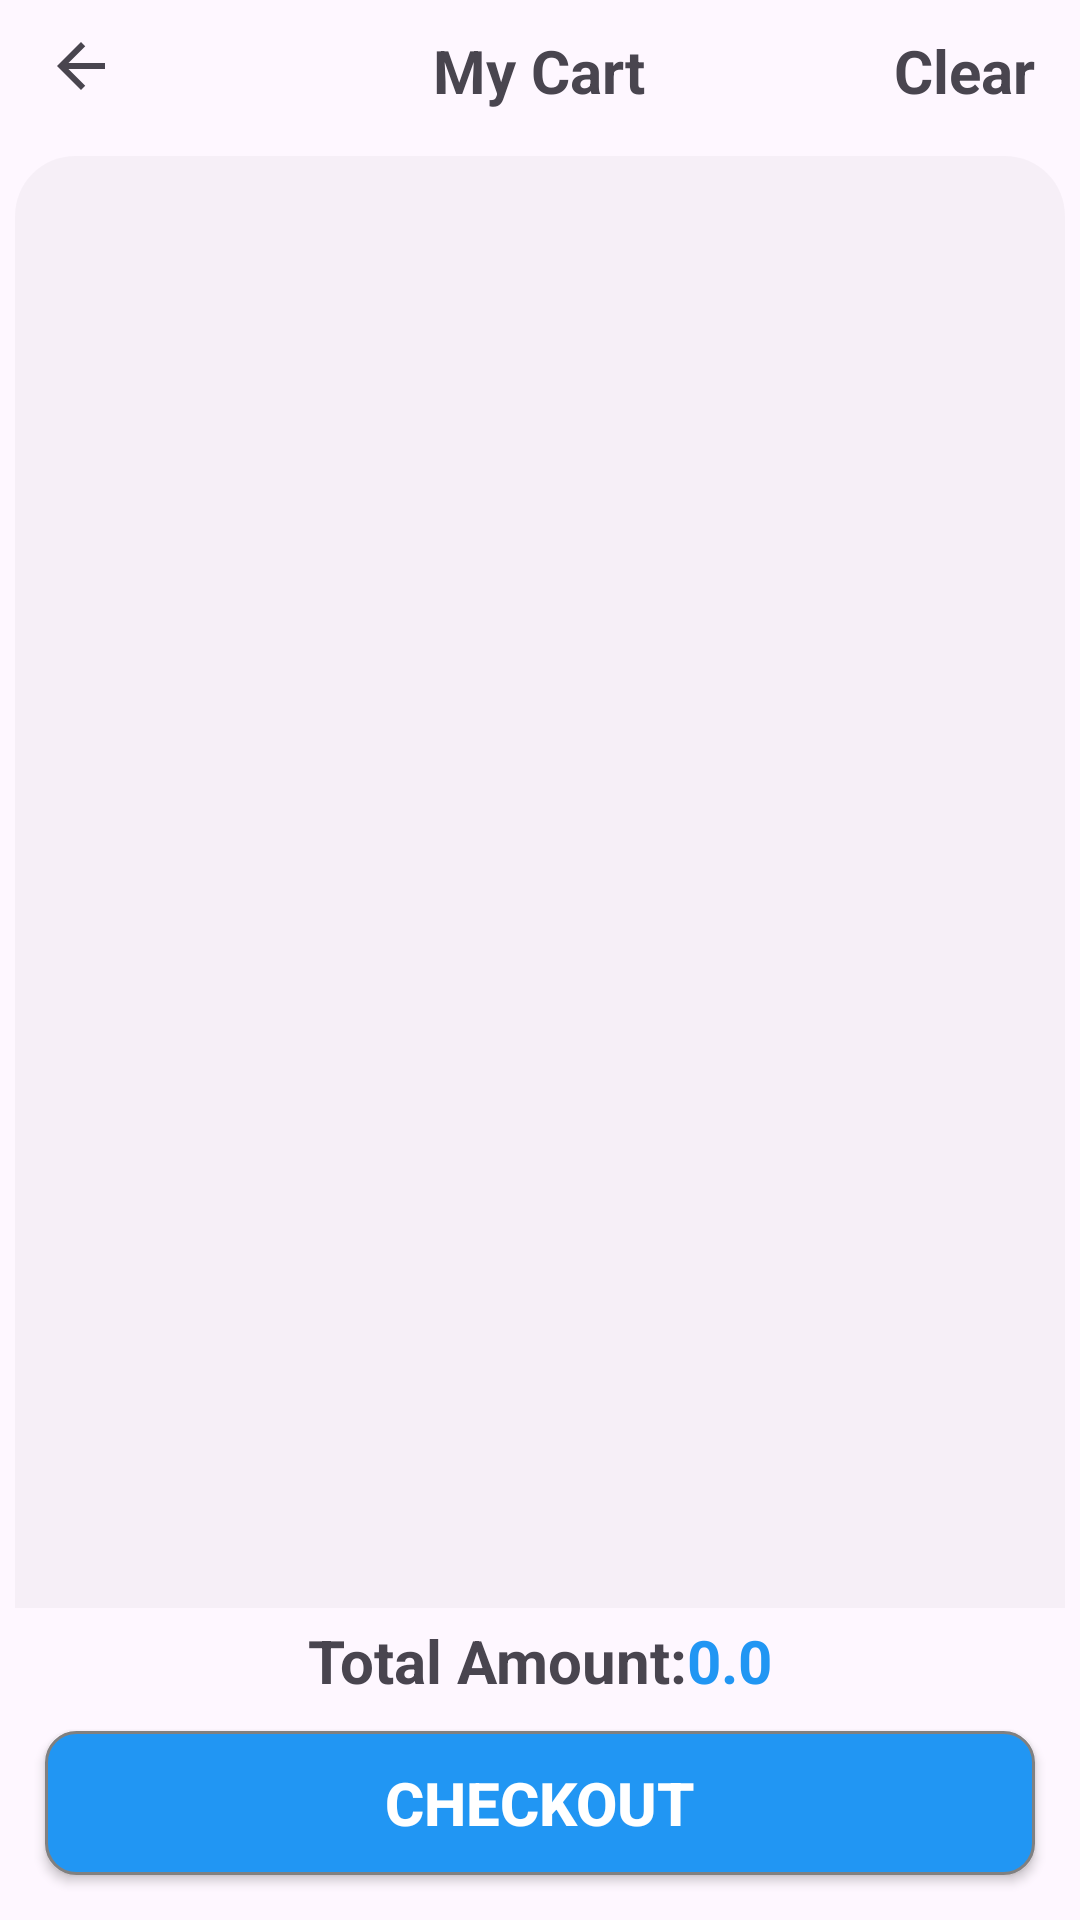

Screen size 1080 × 1920. Icon name, then its box in pixels as (x1, y1, x2, y2):
Back button: (57, 42, 105, 90)
